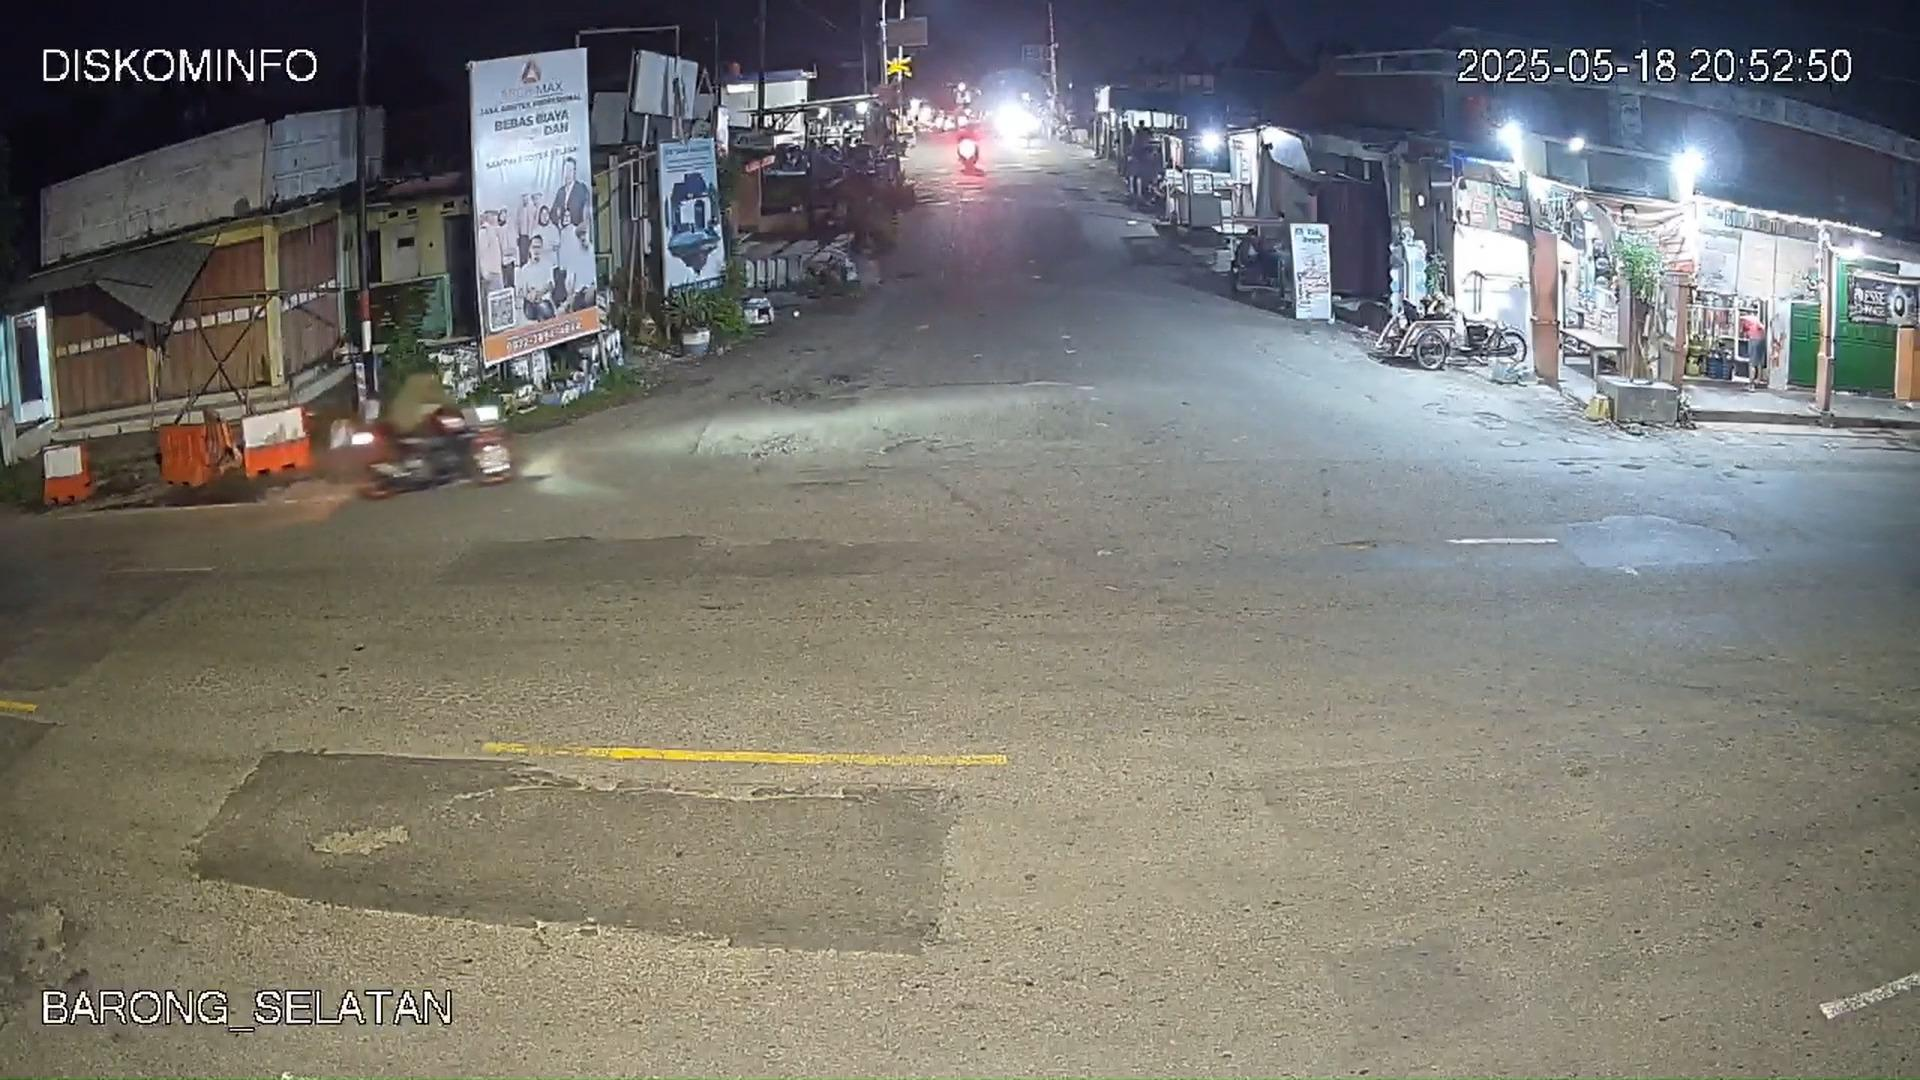Motor: (320, 386, 518, 498)
